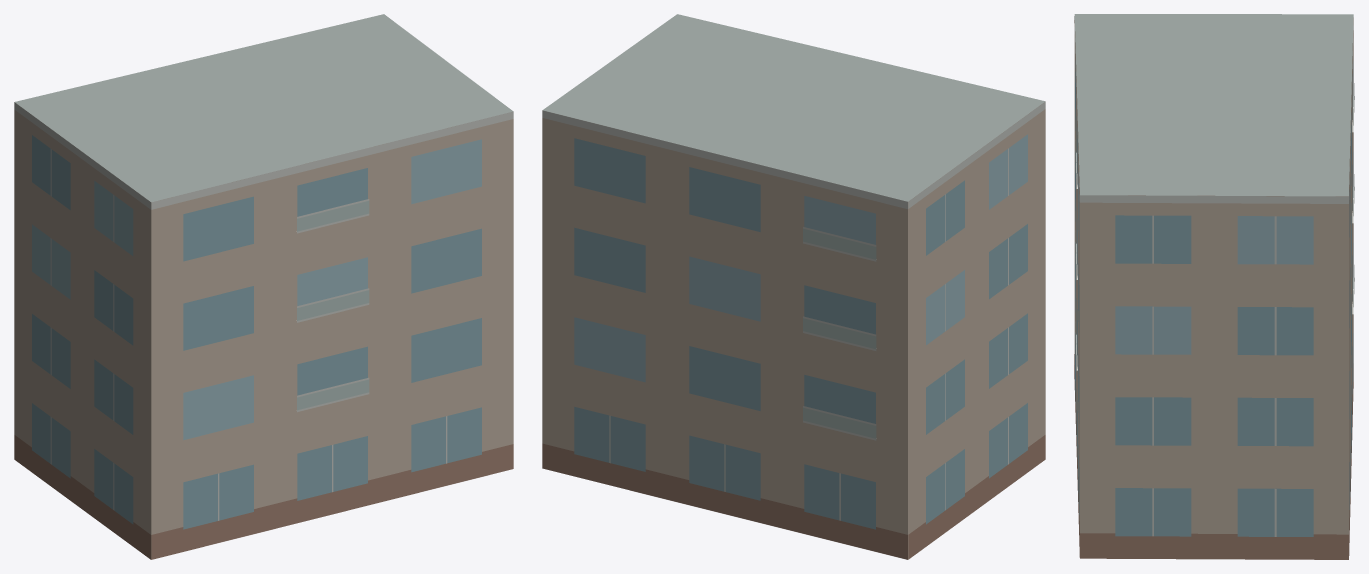
Rendered from survey-upis-32858290.glb.
3 views of the same model, side by side, from view 1: azimuth 30°, elevation 25°; view 2: azimuth 150°, elevation 25°; view 3: azimuth 270°, elevation 25° (orthographic).
Parts seen in each view (by area): view 1: survey-upis-32858290.tmp; view 2: survey-upis-32858290.tmp; view 3: survey-upis-32858290.tmp.
Part boxes in pixels (left/top/right/bottom): survey-upis-32858290.tmp: left=14, top=14, right=513, bottom=559; survey-upis-32858290.tmp: left=542, top=14, right=1045, bottom=559; survey-upis-32858290.tmp: left=1074, top=14, right=1354, bottom=559.
Bounding box in the file's own units: 12.61 × 11.7 × 8.17.
